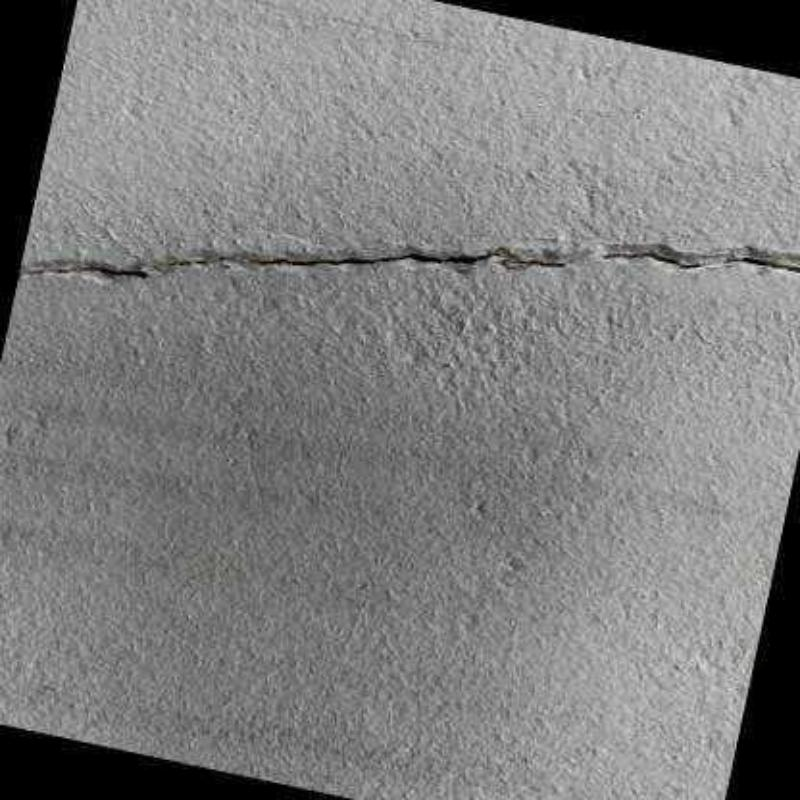pothole: (601, 253, 800, 273), (251, 253, 500, 268), (21, 266, 150, 278), (168, 257, 249, 268), (503, 259, 567, 267)
